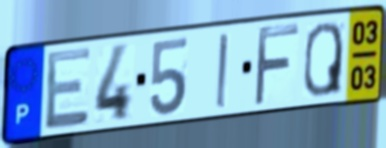4: (92, 41, 136, 124)
5: (148, 34, 191, 118)
E: (44, 44, 93, 134)
F: (251, 22, 302, 110)
I: (214, 30, 230, 111)
Q: (301, 19, 344, 99)
